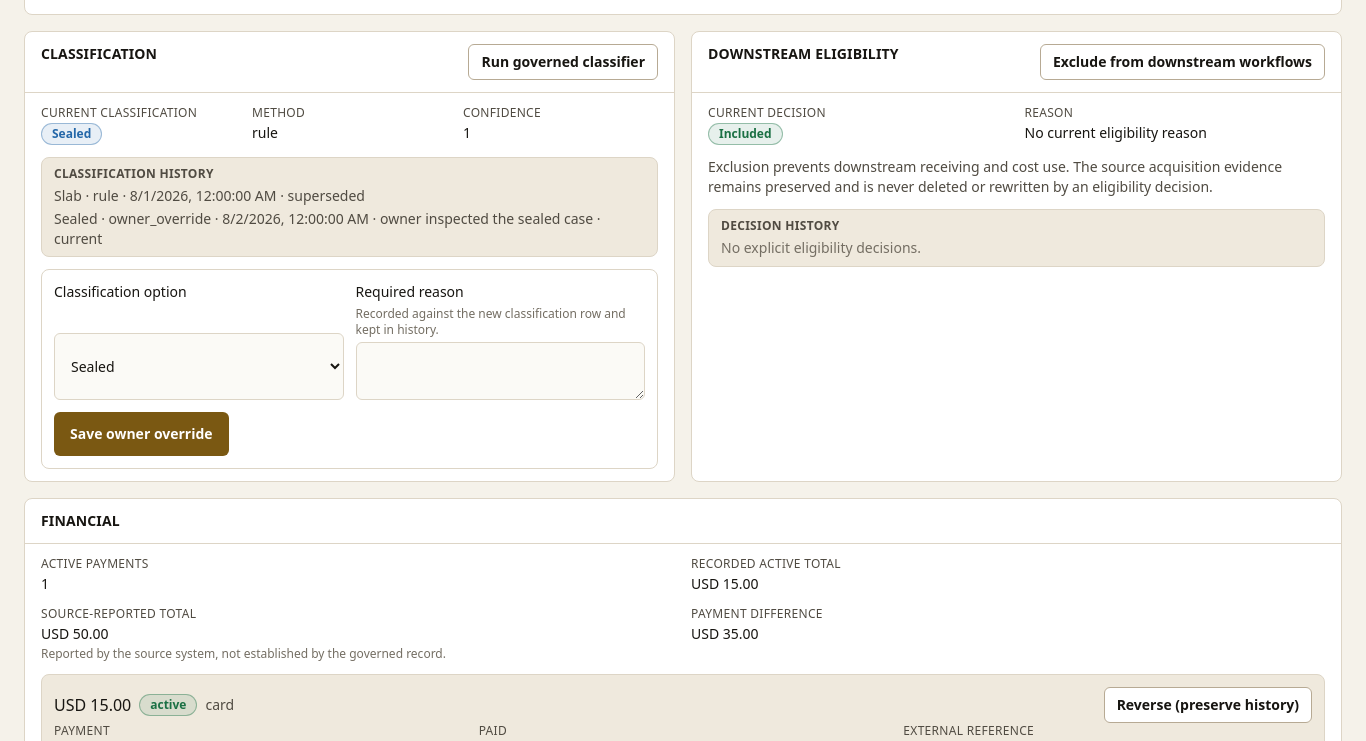
acquisition detail — classification › makes an owner override failure visible
The width and height of the screenshot is (1366, 741).
(page scrolled)
Type "owner reason" into the text box labelled "Required reason" at (500, 371), box [356, 342, 645, 400]
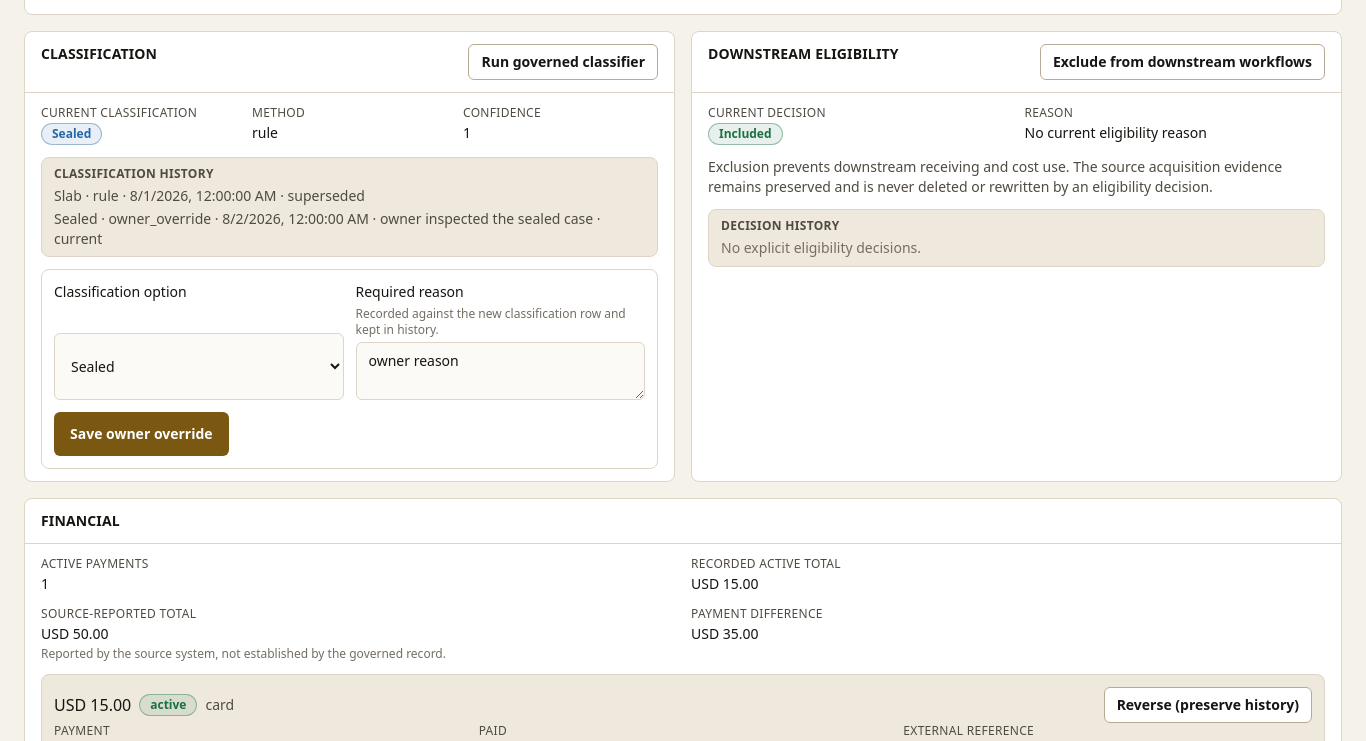
Submit the form named "Owner classification override", box [41, 269, 658, 469]
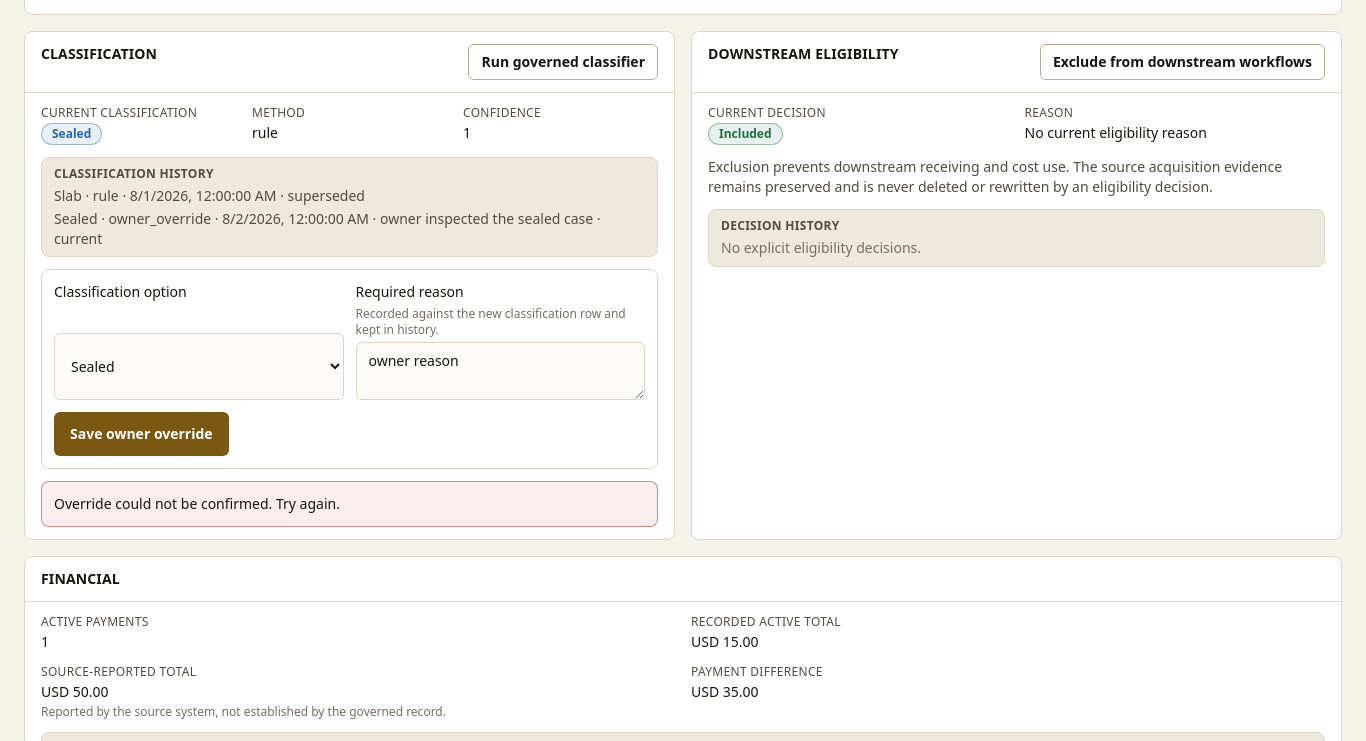
expect the text "Override could not be confirmed. Try again." is shown: met, box [54, 494, 340, 513]
